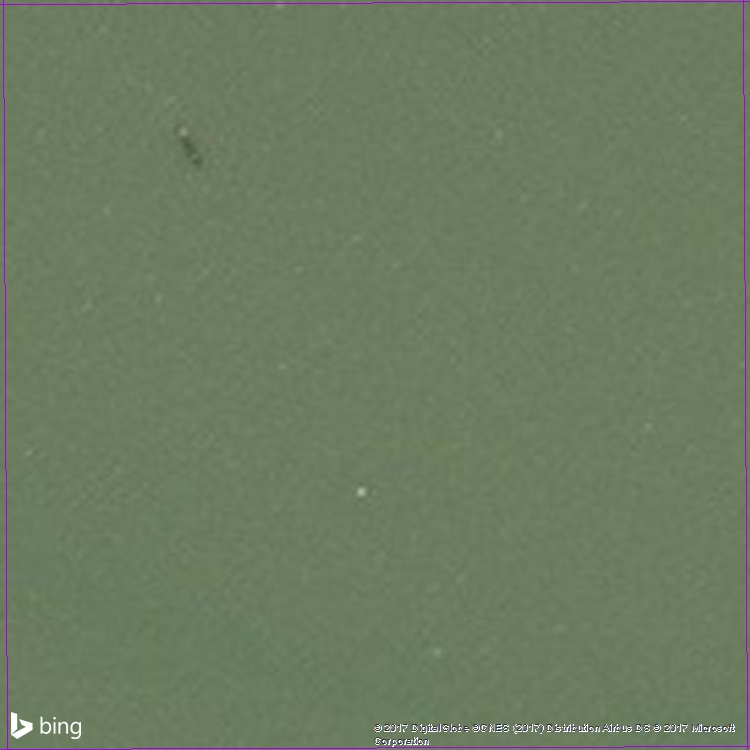boat: (171, 112, 215, 180)
